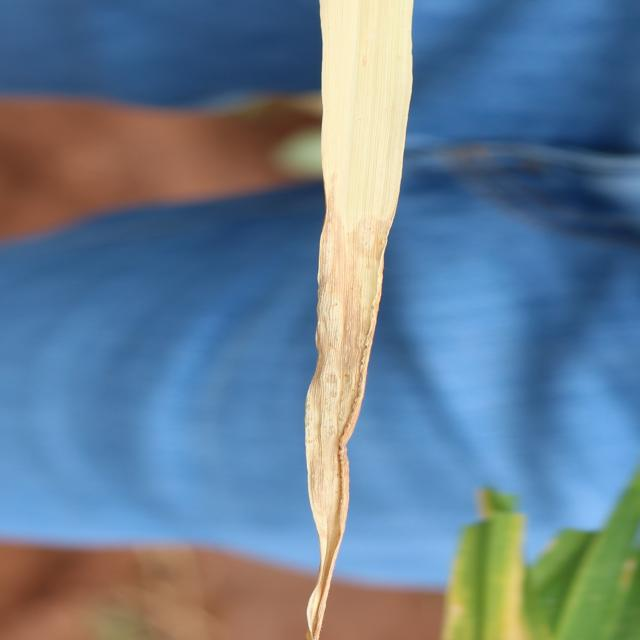Septoria: (300, 0, 415, 639)
